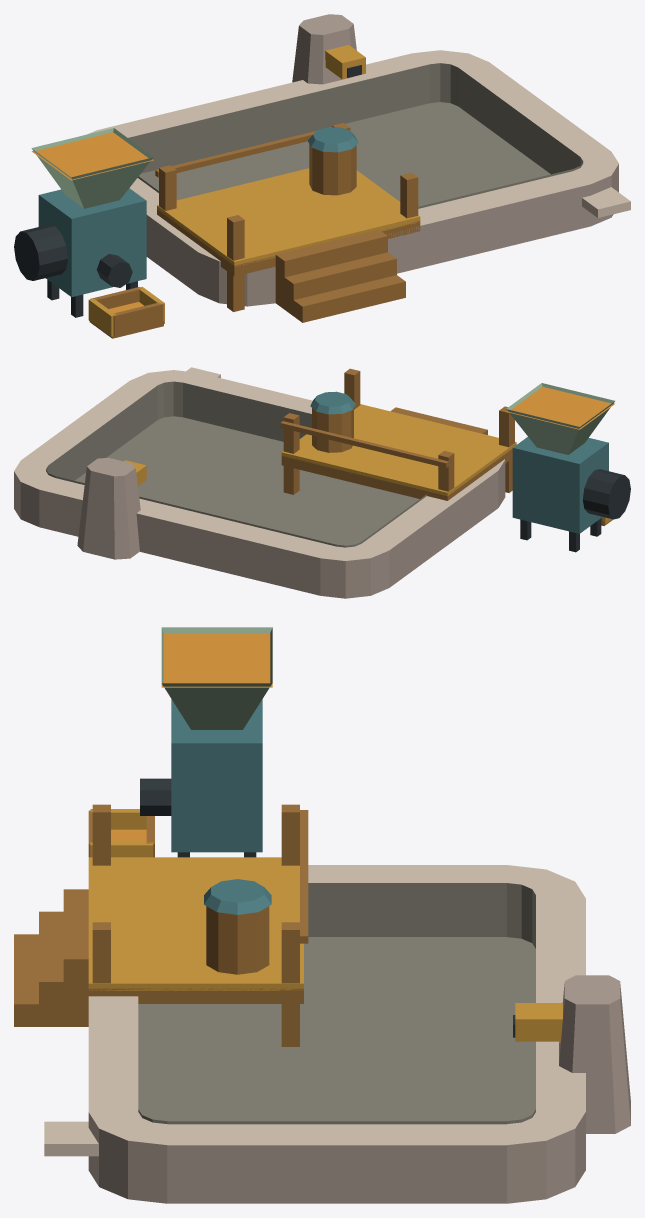
Rendered from FishPond_A_Lv1_Low.fbx.
3 views of the same model, one above another, from view 1: azimuth 30°, elevation 25°; view 2: azimuth 150°, elevation 25°; view 3: azimuth 270°, elevation 25° (orthographic). The views are drawn at different scales.
Visible parts, largest first — view 1: FishPond_A_Lv1_Low; view 2: FishPond_A_Lv1_Low; view 3: FishPond_A_Lv1_Low.
Boxes of the visible parts, x1,y1,x2,y2 form: FishPond_A_Lv1_Low: (14,14,630,338); FishPond_A_Lv1_Low: (14,367,630,598); FishPond_A_Lv1_Low: (14,627,630,1203).
Bounding box in the file's own units: 10.97 × 2.78 × 7.45.
